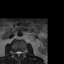CCS_normal: (17, 50, 19, 58)
LFS_normal: (21, 50, 23, 55)
LLS_normal: (19, 50, 21, 56)
RFS_stenosis: (14, 50, 16, 55)
RLS_normal: (16, 50, 17, 55)
